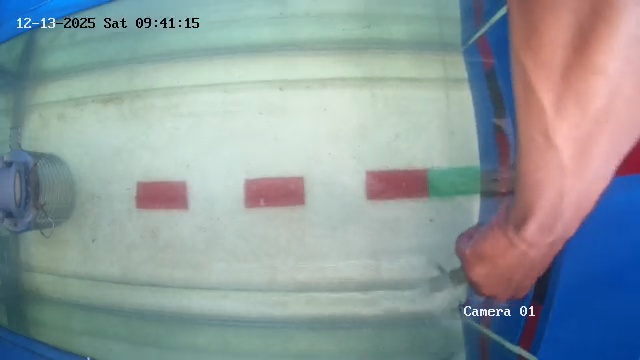fish: (426, 297, 470, 318)
